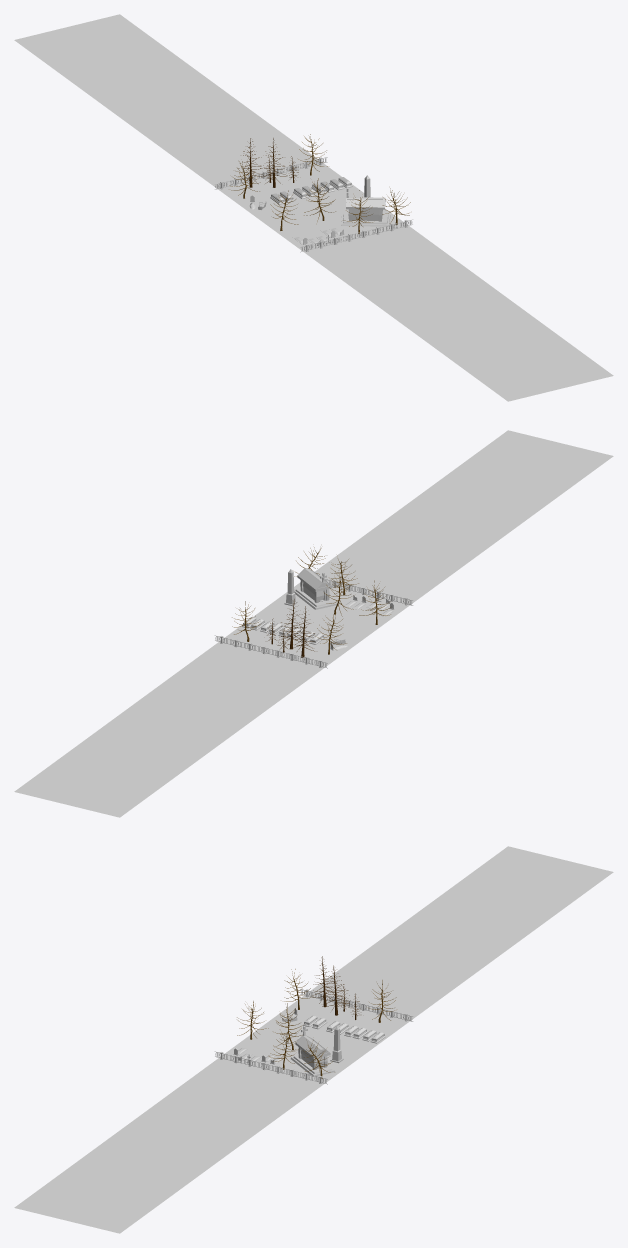
3 renders of one model, top to bottom at view 1: azimuth 30°, elevation 25°; view 2: azimuth 150°, elevation 25°; view 3: azimuth 330°, elevation 25°, orthographic.
Parts seen in each view (by area): view 1: GY100, Box010, GY102; view 2: GY100, Box010, GY102; view 3: GY100, GY102, Box010.
Part boxes in pixels (x1=…): GY100: x1=14, y1=14, x2=613, y2=401; Box010: x1=341, y1=188, x2=390, y2=226; GY102: x1=214, y1=157, x2=413, y2=252; GY100: x1=14, y1=430, x2=613, y2=817; Box010: x1=294, y1=568, x2=336, y2=609; GY102: x1=214, y1=579, x2=413, y2=668; GY100: x1=14, y1=846, x2=613, y2=1233; GY102: x1=214, y1=989, x2=413, y2=1084; Box010: x1=290, y1=1026, x2=335, y2=1076.
Bounding box in the file's own units: 1127 × 464 × 8000.
